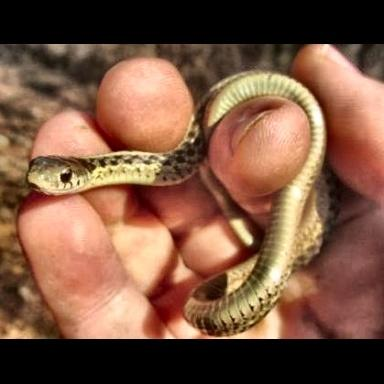snake: (27, 70, 342, 336)
